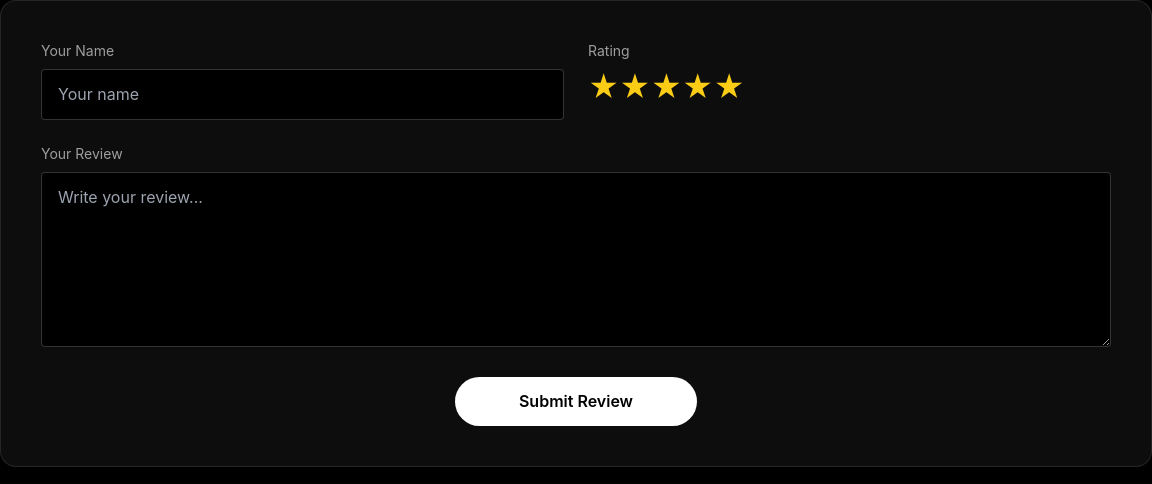
Test: the rating control exposes radio semantics with filled/empty glyphs
The width and height of the screenshot is (1152, 484).
Expected: the 1st radio button labelled "★" is shown, [588,69,619,105]
Expected: the 3rd radio button labelled "★" is shown, [651,69,682,105]
Click the radio button named "2 stars" at coordinates (635, 87), box [619,69,651,105]
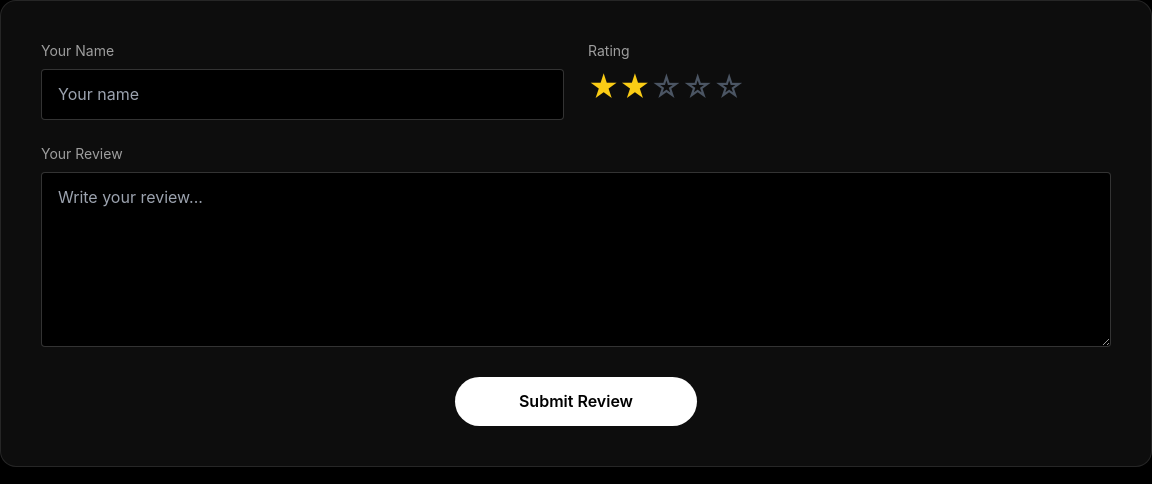
Expected: the 1st radio button labelled "★" is shown, [588,69,619,105]
Expected: the 1st radio button labelled "☆" is shown, [651,69,682,105]
Expected: the 3rd radio button labelled "☆" is shown, [713,69,745,105]
